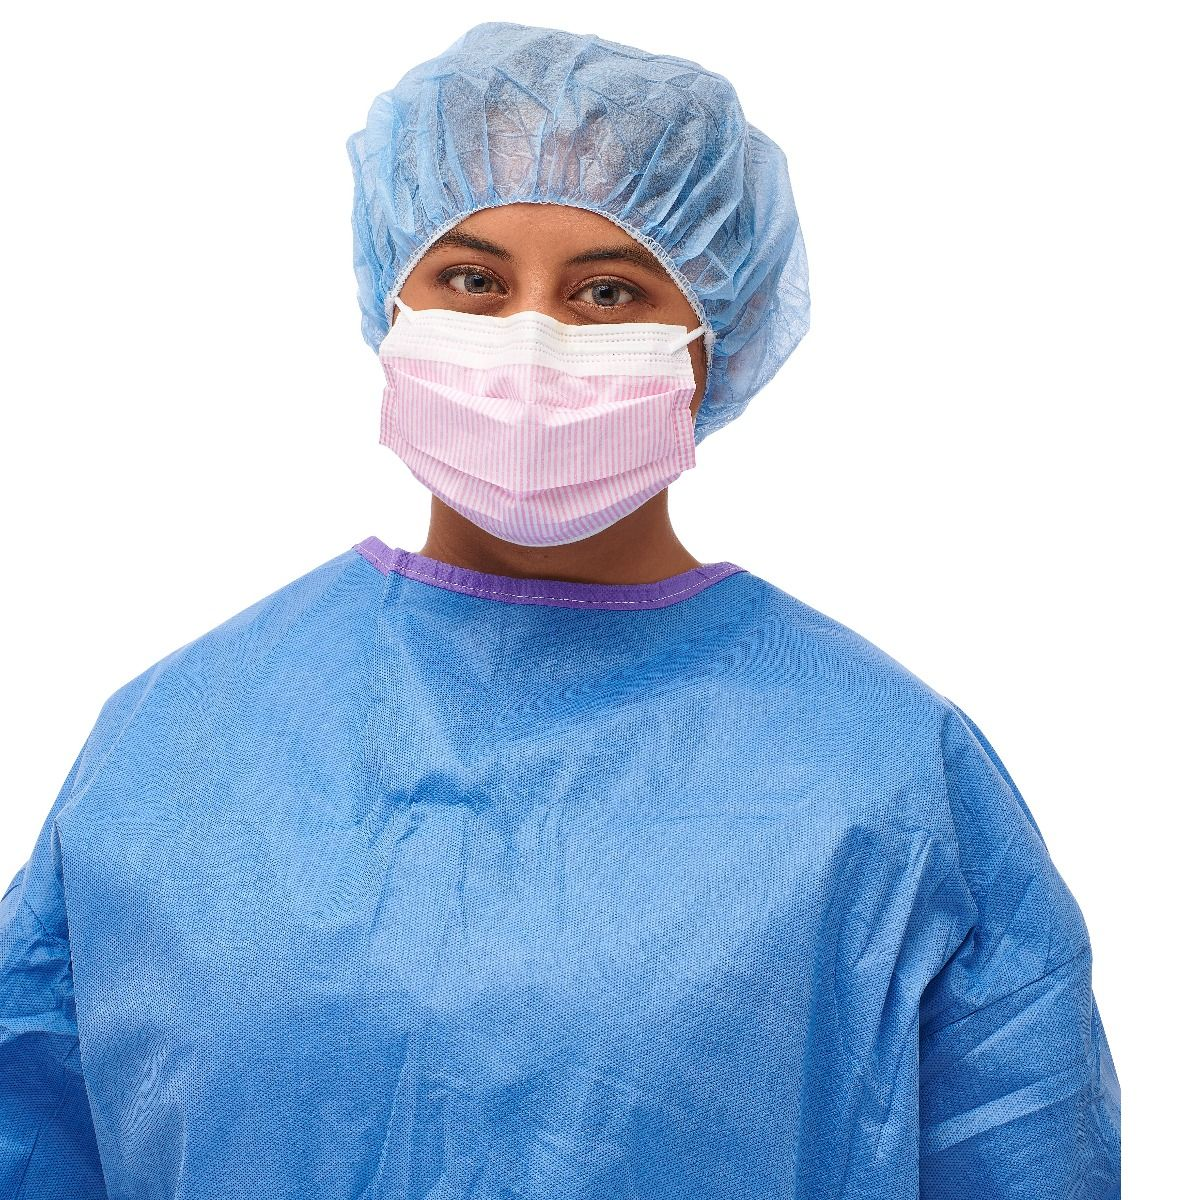with_mask_and_cap: (386, 36, 736, 550)
